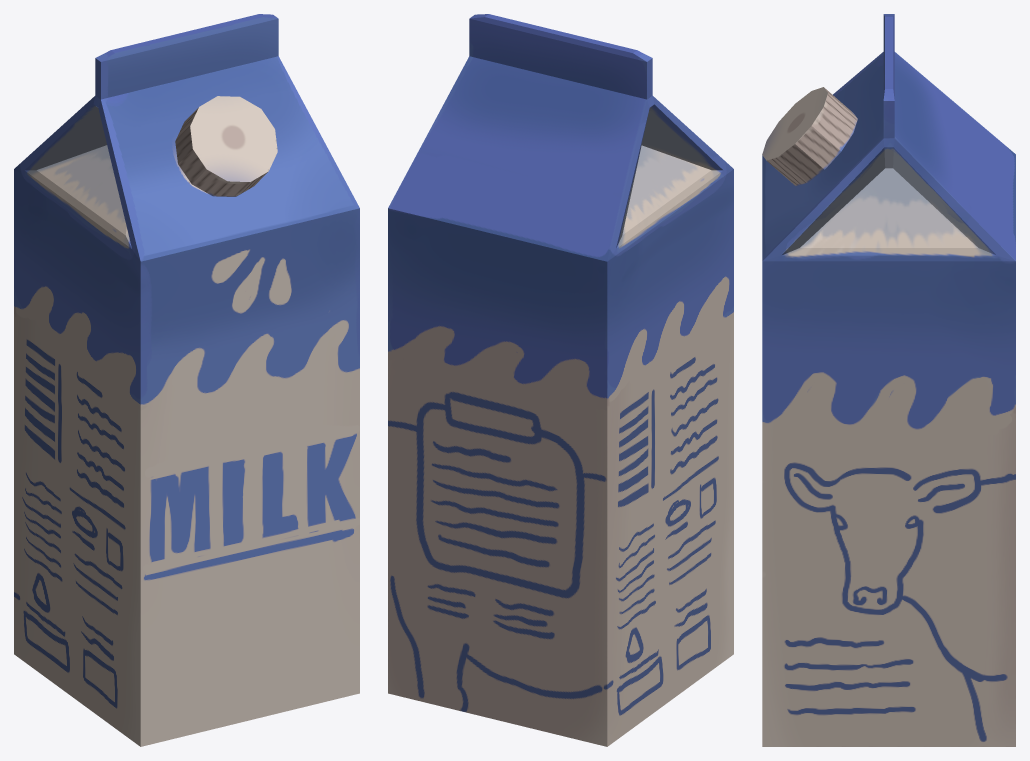
File: lowpoly_milk.glb
3 renders of one model, left to right at view 1: azimuth 30°, elevation 25°; view 2: azimuth 150°, elevation 25°; view 3: azimuth 270°, elevation 25°, orthographic.
Visible parts, largest first — view 1: Object_2; view 2: Object_2; view 3: Object_2.
Boxes of the visible parts, bbox=[...] form: Object_2: bbox=[14, 14, 359, 746]; Object_2: bbox=[388, 14, 733, 746]; Object_2: bbox=[762, 14, 1015, 746].
Bounding box in the file's own units: 8.05 × 22.44 × 8.05.
1 material, 1 textured.
